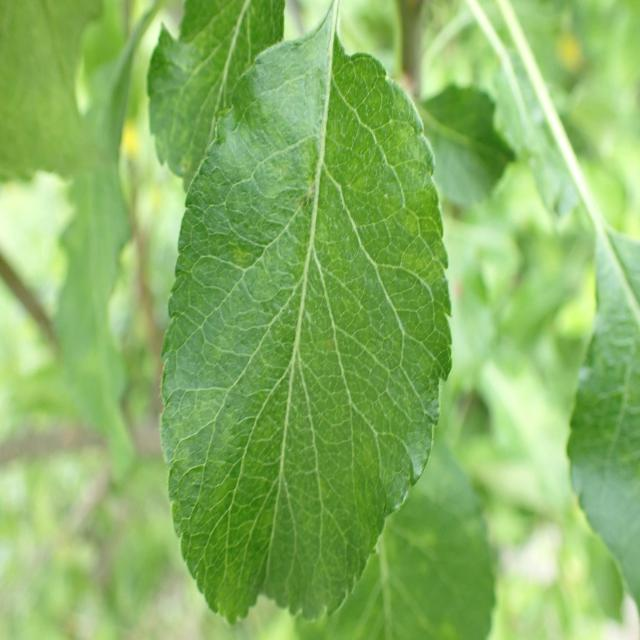scab: (290, 51, 344, 248)
